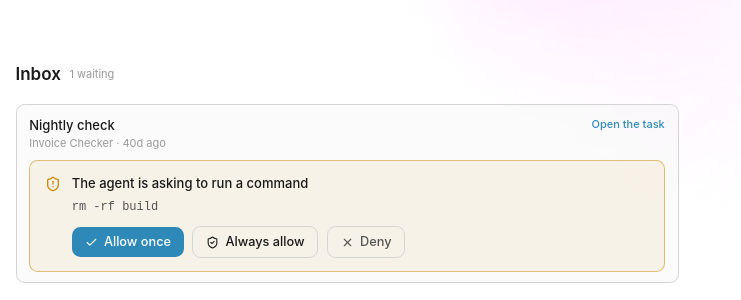
Test: InboxView › keeps a row the user answered even once the list stops returning it
The image size is (741, 300).
Step 1. Click the button "Allow once" → coordinates (128, 242), box [72,227,184,257]
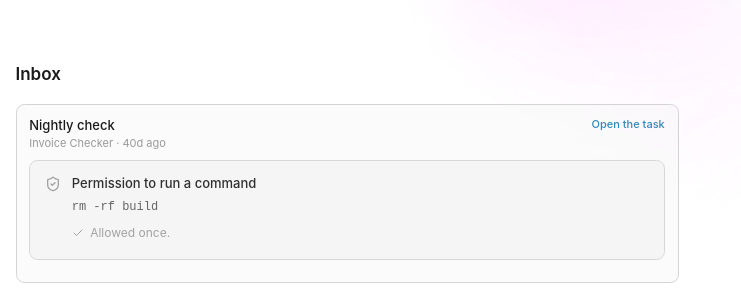
Check: the text "Nightly check" is shown, box [29,117,115,133]
Check: the text "Allowed once." is shown, box [72,224,170,242]
